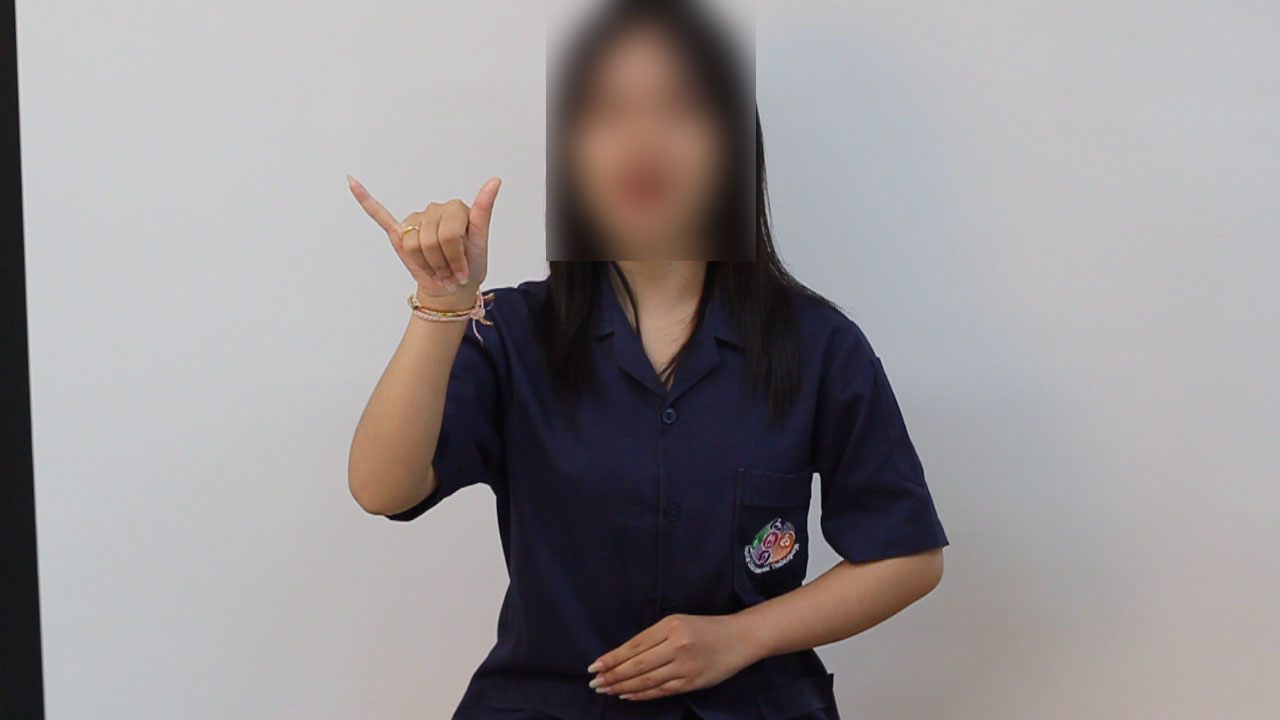yor: (332, 169, 521, 305)
